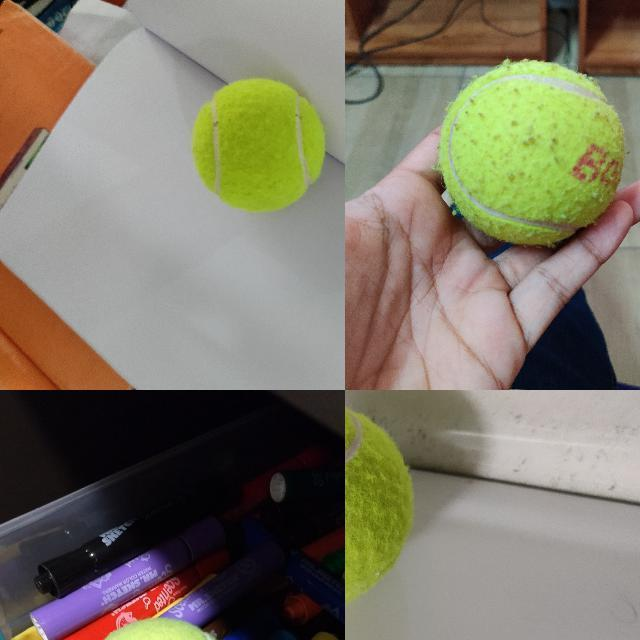tennis-ball: (436, 59, 624, 248), (191, 77, 326, 213), (345, 397, 418, 612)
